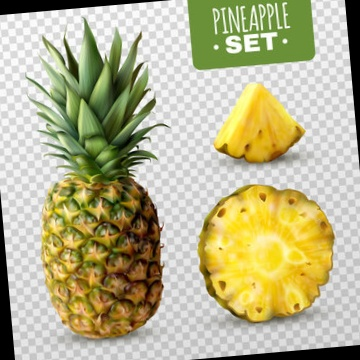Pineapple: (27, 17, 172, 340)
